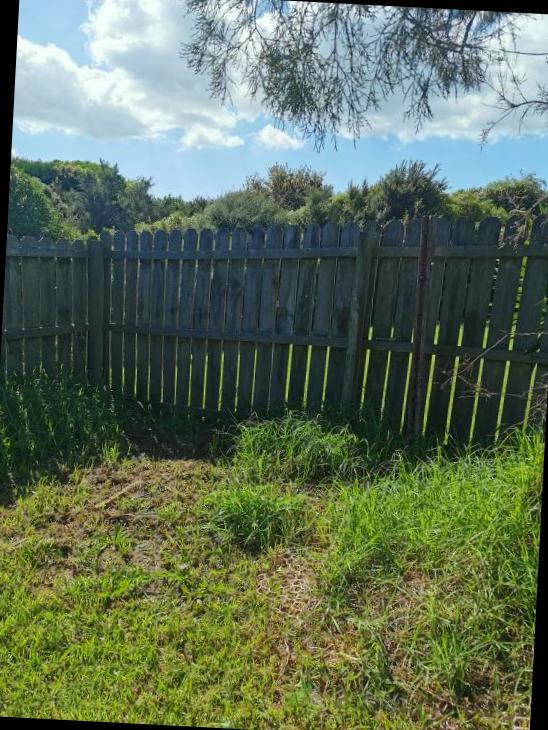overgrown grass: (328, 436, 544, 729), (224, 418, 354, 541), (0, 384, 161, 473)
